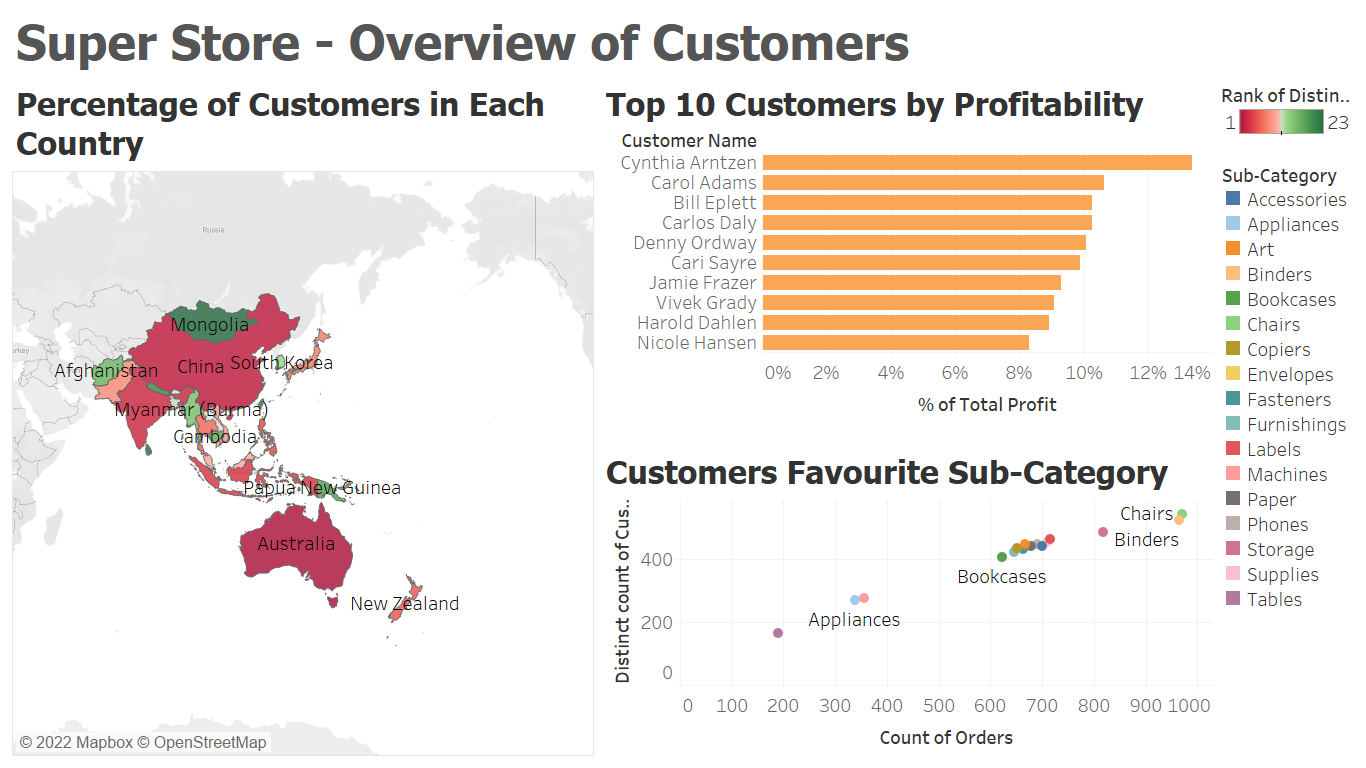

Layout of this report page (visuals, bound fields, positions):
{"tool":"tableau","page":{"name":"Dashboard 5","canvas":[1366,768],"ordinal":3},"visuals":[{"type":"title","box":[8,8,1350,66]},{"type":"worksheet","title":"Cust1","mark":"Multipolygon","box":[8,74,598,686]},{"type":"worksheet","title":"Sheet 17","mark":"Automatic","rows":["Customer Name"],"box":[606,74,628,367.7]},{"type":"legend","title":"Cust1","param":"[federated.1e4h40q1rt7zu312f01az0g4erg2].[rank:ctd:Customer ID:qk]","box":[1234,74,124,81]},{"type":"legend","title":"Sheet 18","param":"[federated.1e4h40q1rt7zu312f01az0g4erg2].[none:Sub-Category:nk]","box":[1234,155,124,459]},{"type":"worksheet","title":"Sheet 18","mark":"Circle","rows":["Customer ID"],"cols":["Orders_8BCAFC48CC764C5F966A25B91A7C83CE"],"box":[606,441.7,628,318.3]}]}

Visuals, with their boxes in screenshot pixels (x1, y1, x2, y2), scaled from the page's 1366x768 canvas onto the 1366x768 screenshot:
title: [left=8, top=8, right=1358, bottom=74]
"Cust1" worksheet (Multipolygon marks): [left=8, top=74, right=606, bottom=760]
"Sheet 17" worksheet: [left=606, top=74, right=1234, bottom=442]
"Cust1" legend: [left=1234, top=74, right=1358, bottom=155]
"Sheet 18" legend: [left=1234, top=155, right=1358, bottom=614]
"Sheet 18" worksheet (Circle marks): [left=606, top=442, right=1234, bottom=760]
